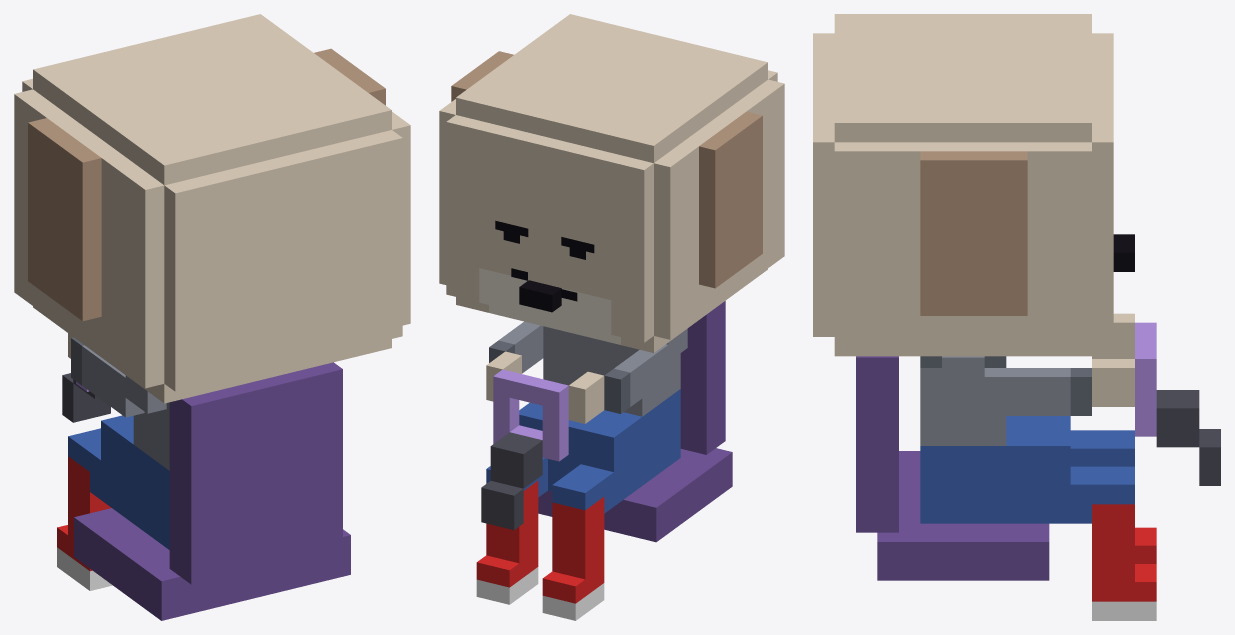
Rendered from personaje_chillguy_piloto.obj.
3 renders of one model, left to right at view 1: azimuth 30°, elevation 25°; view 2: azimuth 150°, elevation 25°; view 3: azimuth 270°, elevation 25°, orthographic. The views are drawn at different scales.
Parts seen in each view (by area): view 1: cabeza, asiento, orejas, falda, manga_izq, bota_izq, muslo_izq, torso, volante_columna, suela_izq, bota_izq_borde, brazo_izq; view 2: cabeza, asiento, orejas, falda, bota_izq, volante, torso, hocico, volante_columna, bota_der, manga_izq, muslo_izq (+9 smaller); view 3: cabeza, asiento, orejas, falda, bota_der, torso, manga_der, muslo_der, volante_columna, volante, mano_der, brazo_der (+8 smaller).
Boxes of the visible parts, x1=… form: cabeza: x1=14, y1=14, x2=410, y2=403; asiento: x1=74, y1=362, x2=350, y2=620; orejas: x1=28, y1=48, x2=385, y2=320; falda: x1=101, y1=415, x2=169, y2=549; manga_izq: x1=82, y1=345, x2=144, y2=417; bota_izq: x1=57, y1=456, x2=111, y2=571; muslo_izq: x1=90, y1=449, x2=133, y2=523; torso: x1=133, y1=402, x2=169, y2=470; volante_columna: x1=62, y1=373, x2=110, y2=422; suela_izq: x1=57, y1=547, x2=112, y2=590; bota_izq_borde: x1=68, y1=428, x2=100, y2=471; brazo_izq: x1=125, y1=375, x2=166, y2=413; cabeza: x1=439, y1=14, x2=784, y2=352; asiento: x1=538, y1=301, x2=732, y2=542; orejas: x1=451, y1=51, x2=762, y2=288; falda: x1=519, y1=389, x2=680, y2=491; bota_izq: x1=542, y1=497, x2=604, y2=603; volante: x1=493, y1=369, x2=568, y2=461; torso: x1=543, y1=326, x2=680, y2=416; hocico: x1=479, y1=268, x2=620, y2=344; volante_columna: x1=481, y1=432, x2=542, y2=529; bota_der: x1=476, y1=481, x2=538, y2=587; manga_izq: x1=614, y1=344, x2=668, y2=406; muslo_izq: x1=571, y1=452, x2=642, y2=513; cabeza: x1=813, y1=14, x2=1113, y2=356; asiento: x1=856, y1=356, x2=1049, y2=580; orejas: x1=920, y1=151, x2=1027, y2=315; falda: x1=920, y1=416, x2=1070, y2=523; bota_der: x1=1092, y1=504, x2=1156, y2=601; torso: x1=920, y1=368, x2=1006, y2=445; manga_der: x1=984, y1=368, x2=1070, y2=415; muslo_der: x1=1006, y1=466, x2=1091, y2=523; volante_columna: x1=1156, y1=390, x2=1220, y2=485; volante: x1=1135, y1=322, x2=1156, y2=436; mano_der: x1=1092, y1=359, x2=1134, y2=406; brazo_der: x1=942, y1=356, x2=984, y2=396.
Bounding box in the file's own units: 0.64 × 1.08 × 0.76.
